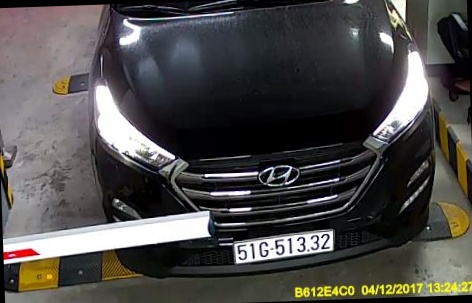plate: (234, 229, 336, 262)
